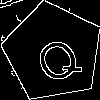Q: (27, 27, 85, 88)
